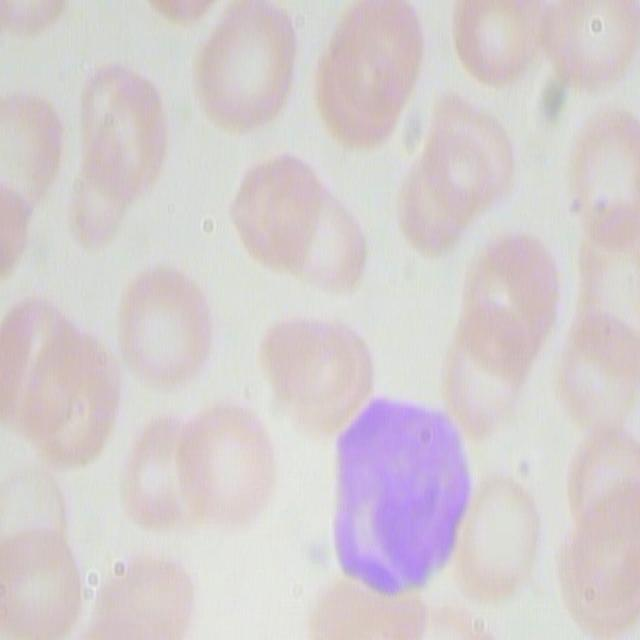RBC: (121, 389, 281, 534), (226, 149, 366, 304), (0, 299, 112, 474), (451, 221, 562, 379), (308, 0, 421, 146), (0, 76, 84, 267), (564, 369, 634, 597), (261, 305, 376, 439), (192, 2, 303, 136), (111, 260, 218, 392), (0, 480, 83, 640), (80, 59, 173, 199), (449, 480, 546, 604), (562, 100, 640, 240), (91, 538, 195, 638), (573, 200, 640, 348), (534, 1, 638, 91), (444, 1, 542, 90), (0, 0, 213, 39)
WBC: (322, 376, 479, 625)
